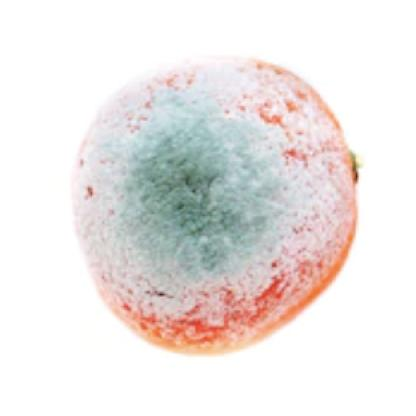rotten: (73, 58, 358, 357)
